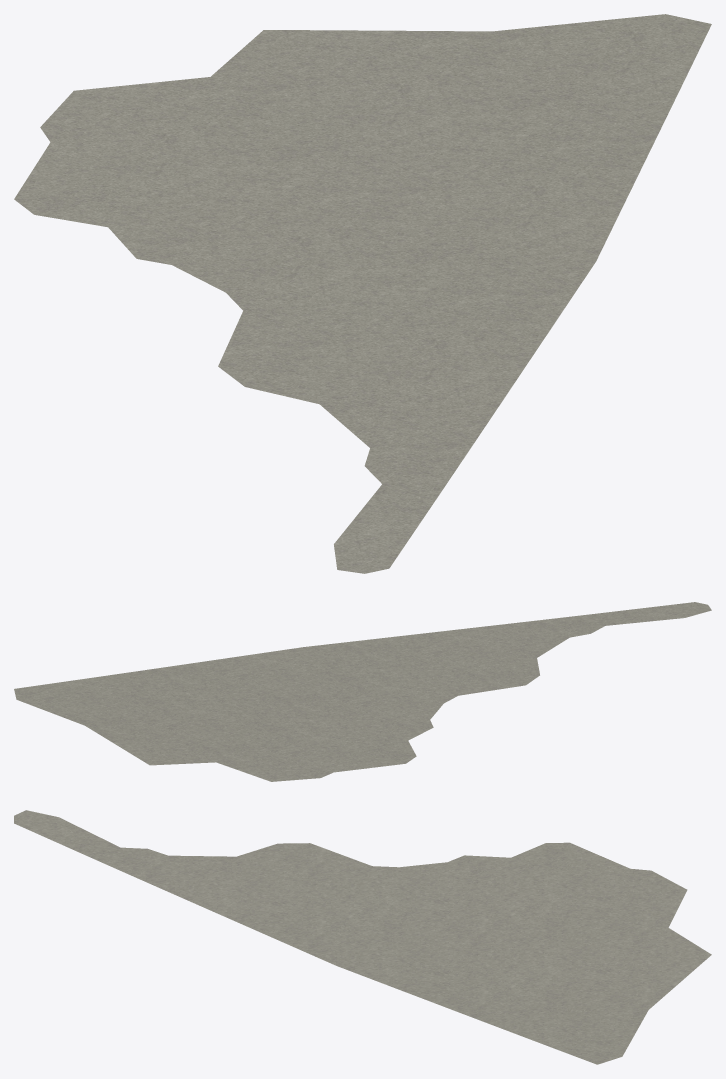
Rendered from path_07.glb.
The picture shows the model from 3 angles, top to bottom: view 1: azimuth 30°, elevation 25°; view 2: azimuth 150°, elevation 25°; view 3: azimuth 270°, elevation 25°; orthographic projection. The views are drawn at different scales.
Visible parts, largest first — view 1: path_07.surface; view 2: path_07.surface; view 3: path_07.surface.
Part boxes in pixels (bbox=[...]): path_07.surface: bbox=[14, 14, 711, 573]; path_07.surface: bbox=[14, 602, 711, 781]; path_07.surface: bbox=[14, 810, 711, 1064].
Size of the model in its own units: 7.27 by 0.1412 by 8.6.
Materials: 1 (1 with a texture image).
